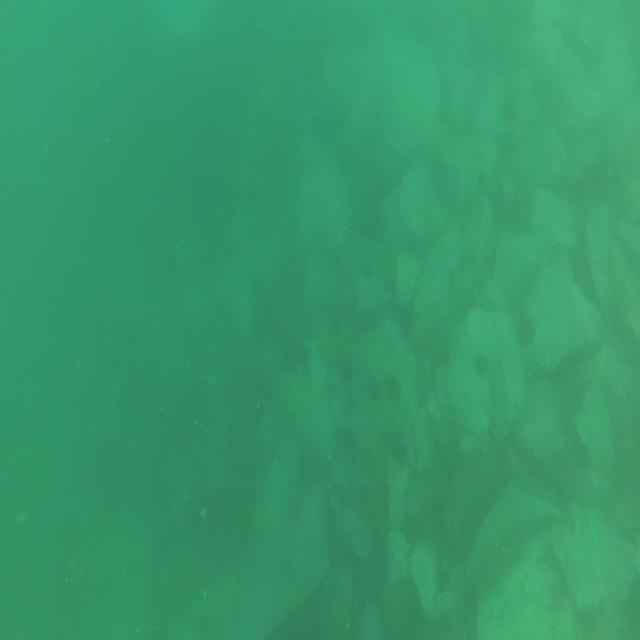echinus: (384, 370, 404, 406), (394, 439, 412, 474), (369, 373, 387, 405), (517, 312, 535, 344), (474, 350, 488, 376)
